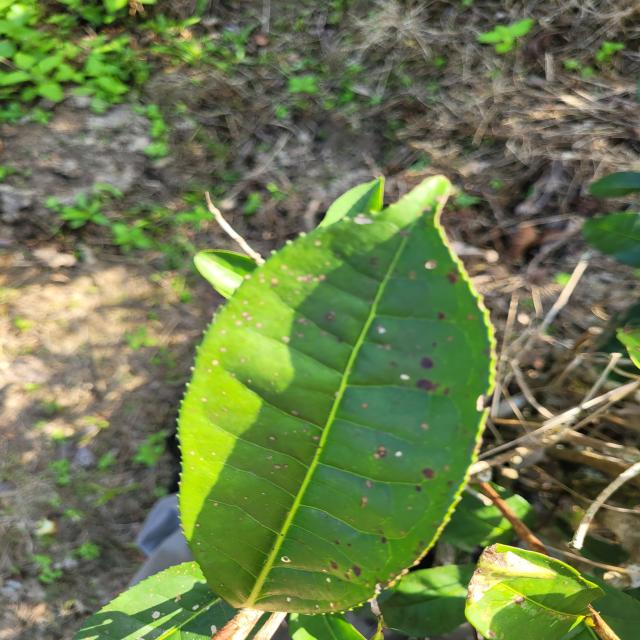Category D(7+ days, Not for Tea): (157, 159, 512, 640)
